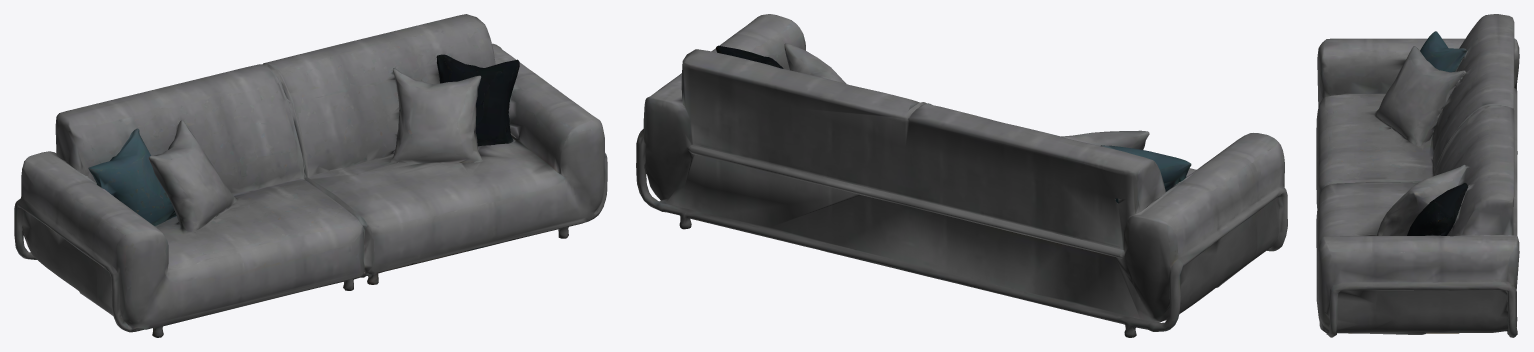
Rendered from sjNBrZsfGI26xCvCj0TIa.glb.
3 renders of one model, left to right at view 1: azimuth 30°, elevation 25°; view 2: azimuth 150°, elevation 25°; view 3: azimuth 270°, elevation 25°, orthographic. The views are drawn at different scales.
Parts seen in each view (by area): view 1: geometry_0; view 2: geometry_0; view 3: geometry_0.
Part boxes in pixels (<box>): geometry_0: <box>14,14,607,337</box>; geometry_0: <box>636,14,1287,337</box>; geometry_0: <box>1316,14,1519,337</box>.
Size of the model in its own units: 1 by 0.2984 by 0.3914.
1 material, 1 textured.
